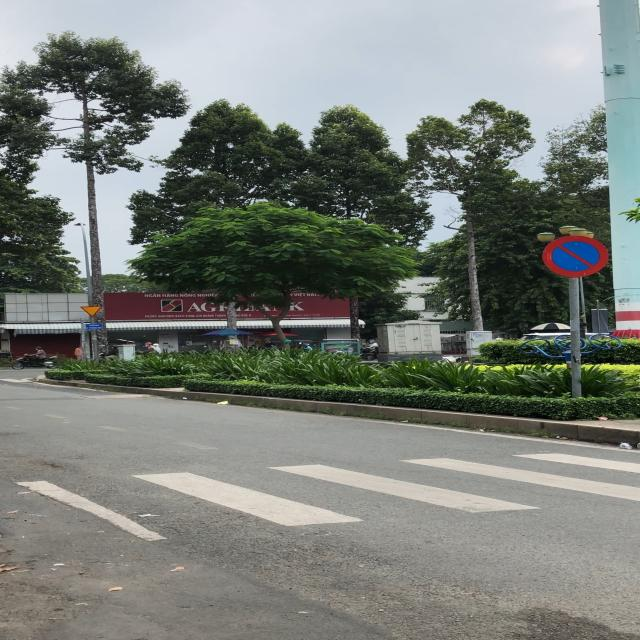Bien bao cam do xe: (539, 234, 616, 279)
Bien bao giao nhau voi duong uu tien: (78, 306, 105, 318)
